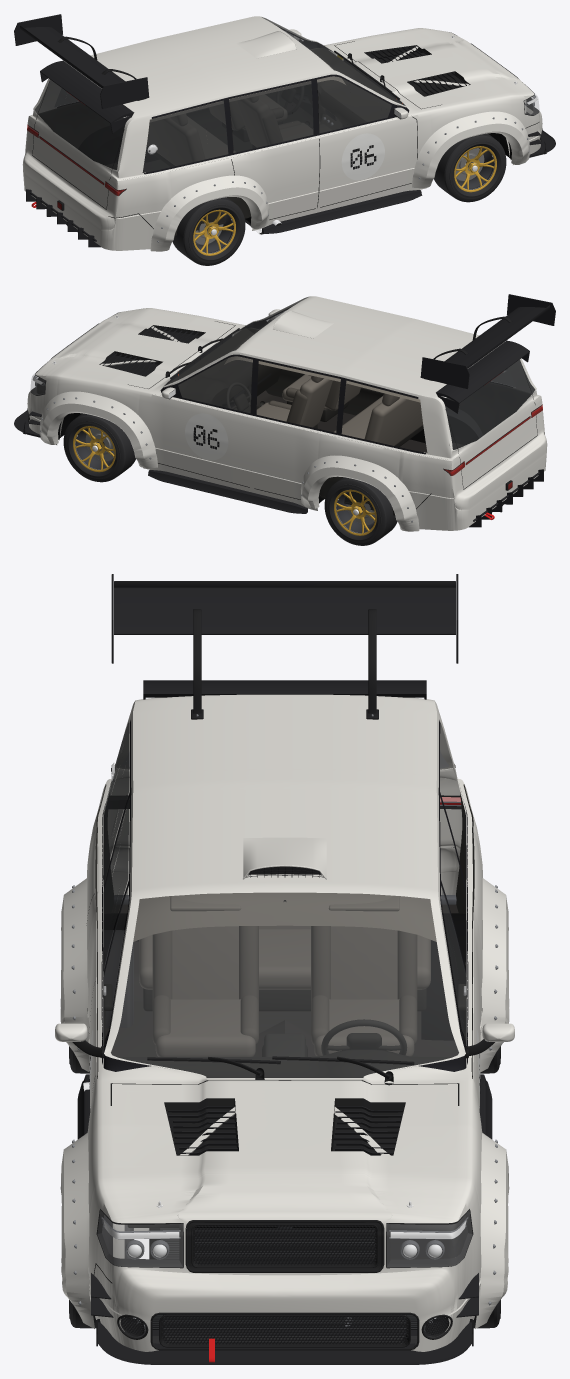
Rendered from suv-race_studio.glb.
3 views of the same model, one above another, from view 1: azimuth 30°, elevation 25°; view 2: azimuth 150°, elevation 25°; view 3: azimuth 270°, elevation 25° (orthographic). The views are drawn at different scales.
Parts seen in each view (by area): view 1: body, hood, wheel_fr, wheel_rr, bay, lamp_tail; view 2: body, hood, wheel_fl, wheel_rl, lamp_tail, bay, wheel_rr; view 3: body, hood, lamp_head, bay, wheel_rr, under.
Part boxes in pixels (<box>): body: <box>14,14,555,251</box>; hood: <box>334,30,531,109</box>; wheel_fr: <box>434,133,506,202</box>; wheel_rr: <box>172,197,245,265</box>; bay: <box>336,54,526,163</box>; lamp_tail: <box>27,93,125,209</box>; body: <box>14,294,555,531</box>; hood: <box>38,309,235,389</box>; wheel_fl: <box>63,413,135,482</box>; wheel_rl: <box>324,477,397,545</box>; lamp_tail: <box>444,373,542,489</box>; bay: <box>58,334,233,443</box>; wheel_rr: <box>445,407,482,437</box>; body: <box>55,574,514,1364</box>; hood: <box>110,1080,459,1223</box>; lamp_head: <box>97,1211,472,1267</box>; bay: <box>112,1223,450,1331</box>; wheel_rr: <box>69,930,133,1073</box>; under: <box>125,1332,444,1345</box>.
Size of the model in its own units: 5.16 by 2.09 by 2.21.
